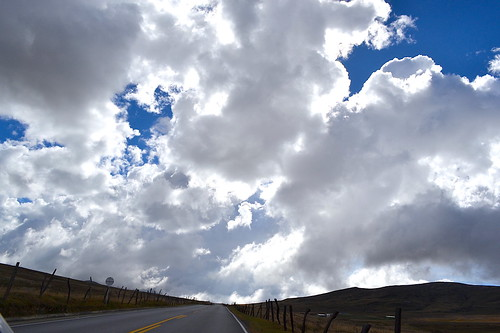road: (1, 300, 261, 333)
sky: (1, 1, 499, 271)
